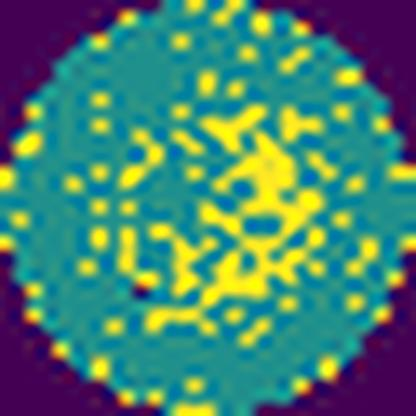Donut: (61, 65, 345, 349)
